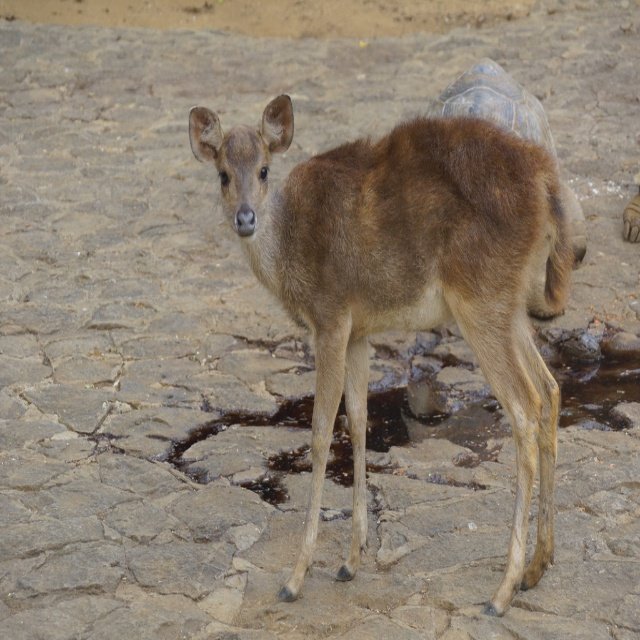Deer: (190, 94, 577, 617)
